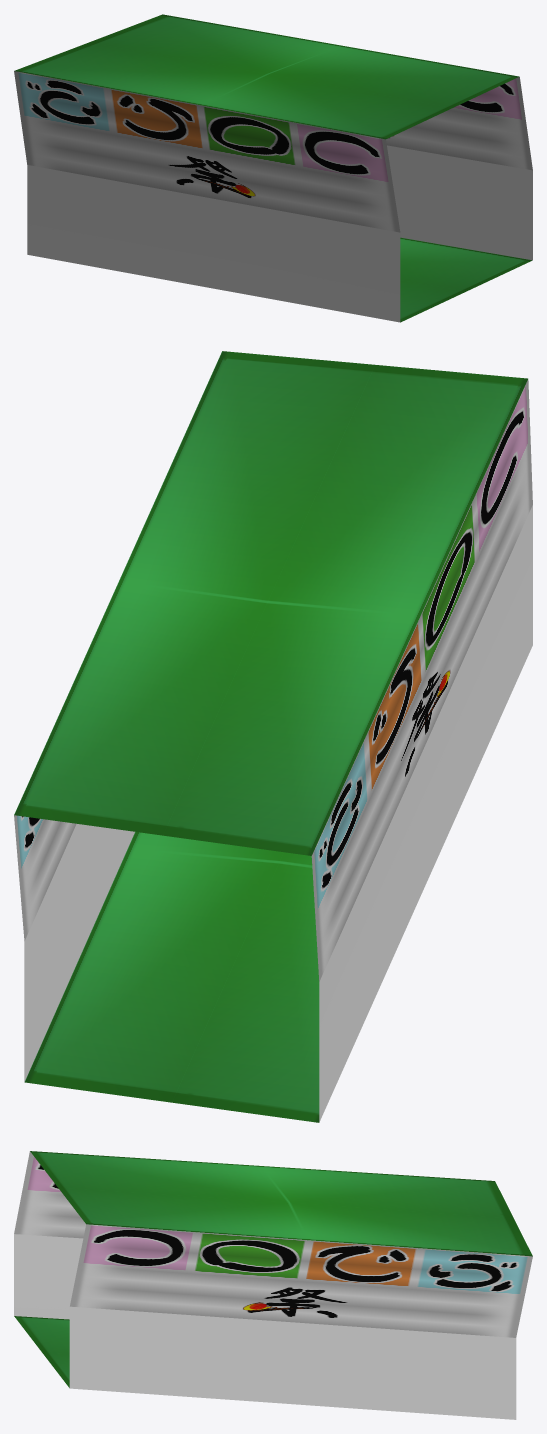
3 renders of one model, top to bottom at view 1: azimuth 30°, elevation 25°; view 2: azimuth 150°, elevation 25°; view 3: azimuth 270°, elevation 25°, orthographic. The views are drawn at different scales.
Visible parts, largest first — view 1: polySurface103; view 2: polySurface103; view 3: polySurface103.
Part boxes in pixels (bbox=[...]): polySurface103: bbox=[14, 14, 532, 322]; polySurface103: bbox=[14, 351, 532, 1122]; polySurface103: bbox=[14, 1151, 532, 1419].
Size of the model in its own units: 3.33 by 2.98 by 5.74.
1 material, 1 textured.
